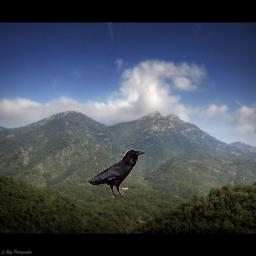Crow: (85, 148, 145, 197)
